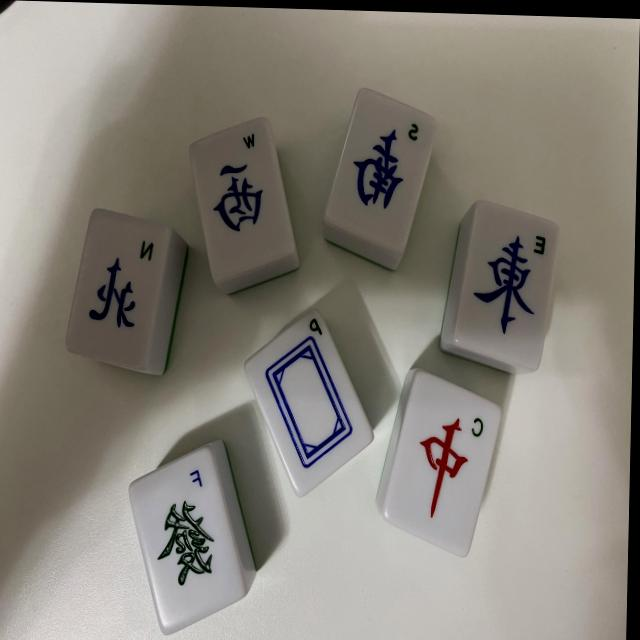bai: (242, 307, 376, 501)
east: (454, 198, 560, 372)
fa: (126, 443, 247, 638)
north: (63, 207, 172, 373)
south: (323, 87, 440, 256)
west: (188, 114, 297, 282)
zhong: (381, 367, 503, 560)
